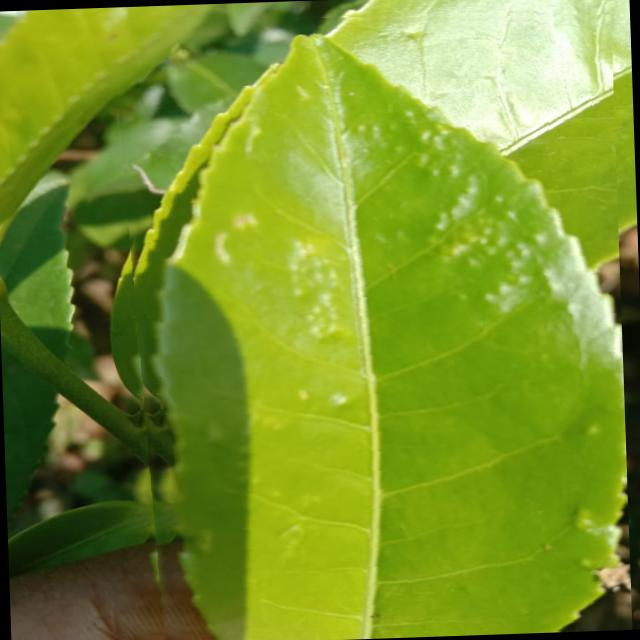Category B(2-4 days): (110, 2, 632, 640)
